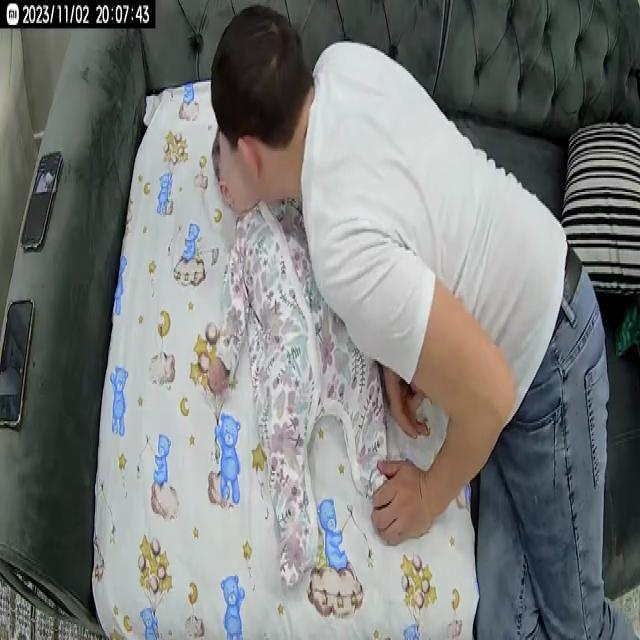baby: (206, 130, 396, 588)
